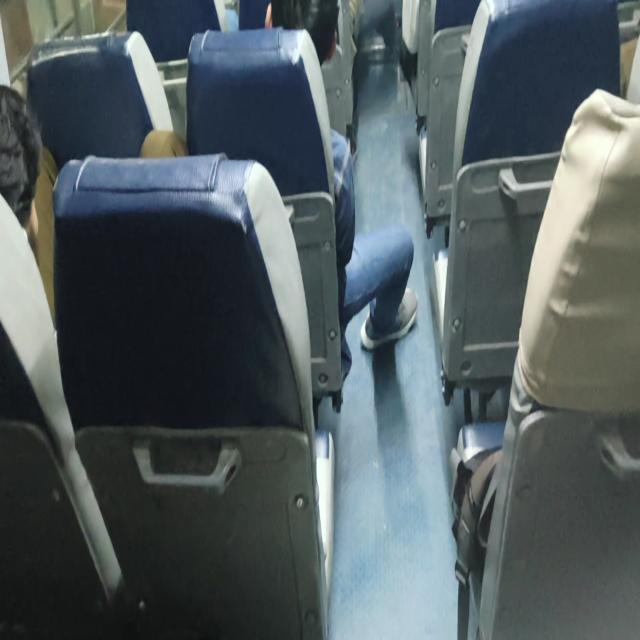person: (0, 73, 46, 252), (251, 0, 346, 66)
